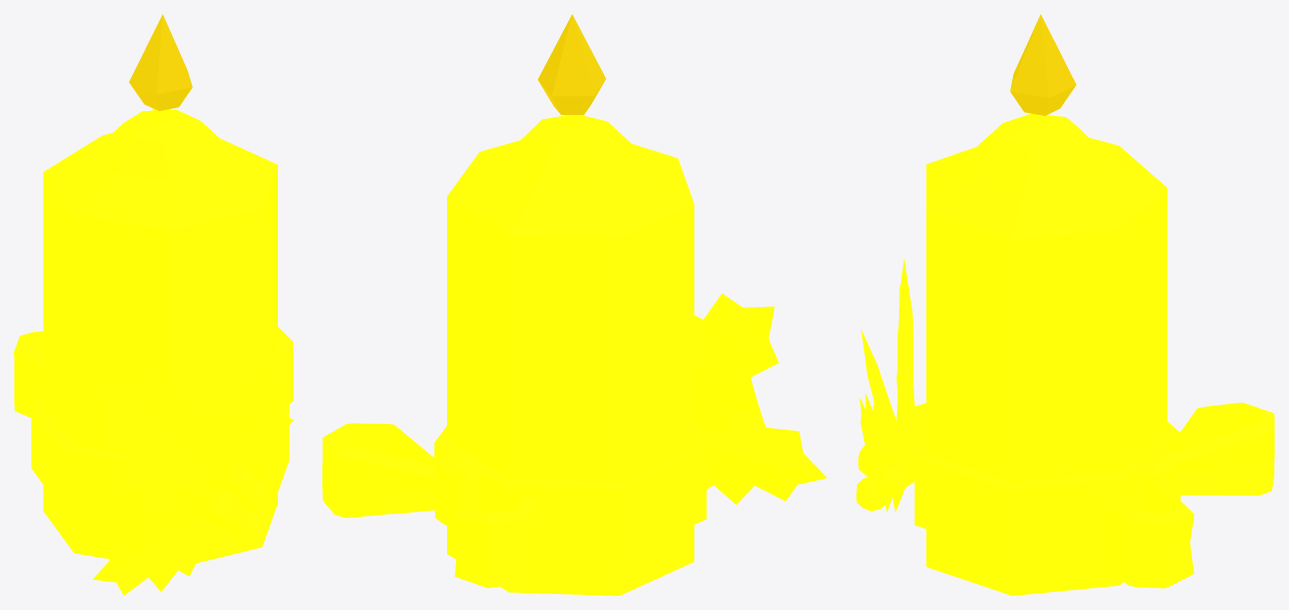
Rendered from candle-decorated-lit-christmas.glb.
3 views of the same model, side by side, from view 1: azimuth 30°, elevation 25°; view 2: azimuth 150°, elevation 25°; view 3: azimuth 270°, elevation 25° (orthographic). The views are drawn at different scales.
Parts seen in each view (by area): view 1: candle_decorated_lit_christmas; view 2: candle_decorated_lit_christmas; view 3: candle_decorated_lit_christmas.
Part boxes in pixels (bbox=[...]): candle_decorated_lit_christmas: bbox=[14, 14, 293, 595]; candle_decorated_lit_christmas: bbox=[322, 14, 826, 595]; candle_decorated_lit_christmas: bbox=[856, 14, 1274, 595].
Bounding box in the file's own units: 0.1354 × 0.1962 × 0.1403.
2 materials, 1 textured.
